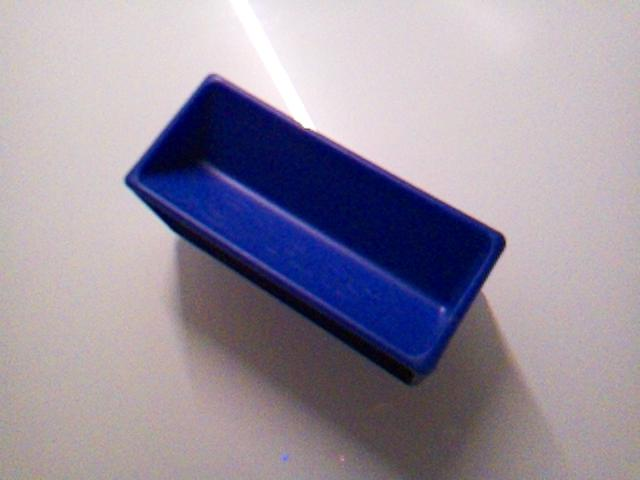blue: (123, 71, 508, 387)
